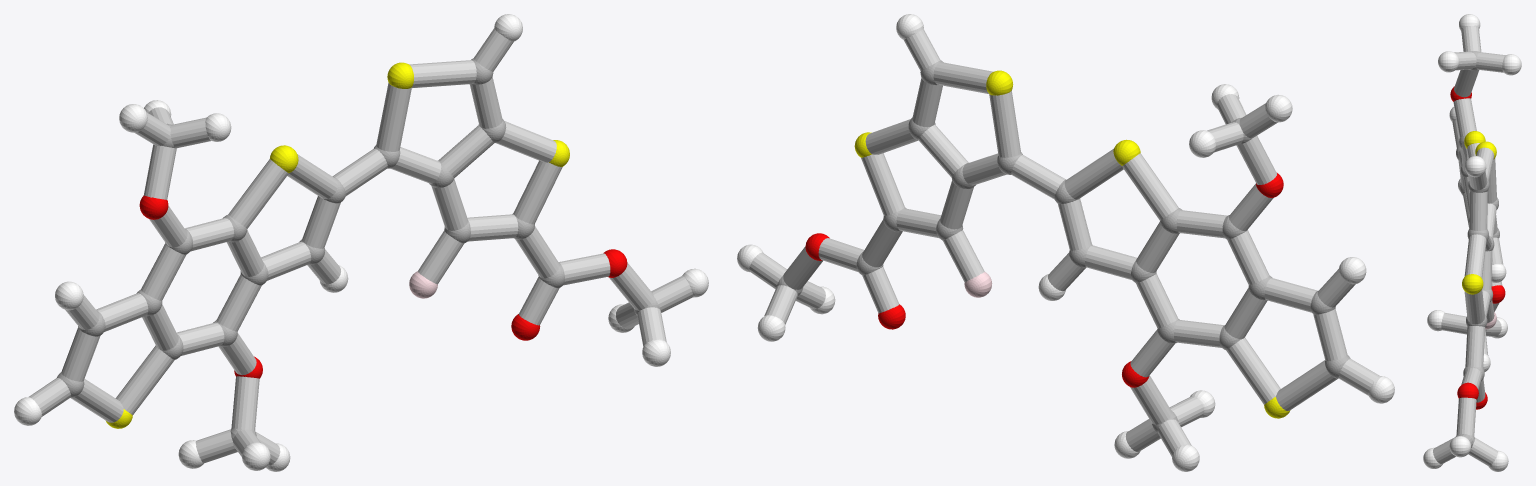
File: color.glb
3 renders of one model, left to right at view 1: azimuth 30°, elevation 25°; view 2: azimuth 150°, elevation 25°; view 3: azimuth 270°, elevation 25°, orthographic. The views are drawn at different scales.
Parts seen in each view (by area): view 1: grp15205, grp8689, grp1, grp7241, grp13395; view 2: grp15205, grp8689, grp1, grp13395, grp7241; view 3: grp15205, grp8689, grp1, grp7241, grp13395.
Boxes of the visible parts, box(x1,y1,x2,y2) form: grp15205: box(29, 28, 693, 465); grp8689: box(14, 14, 708, 471); grp1: box(57, 58, 660, 440); grp7241: box(106, 62, 569, 428); grp13395: box(139, 195, 627, 378); grp15205: box(749, 29, 1379, 456); grp8689: box(737, 14, 1394, 471); grp1: box(777, 60, 1350, 433); grp13395: box(805, 173, 1283, 387); grp7241: box(854, 70, 1290, 418); grp15205: box(1433, 26, 1505, 466); grp8689: box(1423, 14, 1521, 471); grp1: box(1455, 51, 1499, 443); grp7241: box(1462, 131, 1496, 294); grp13395: box(1450, 86, 1505, 409).
Size of the model in its own units: 16.43 by 9.32 by 2.74.
